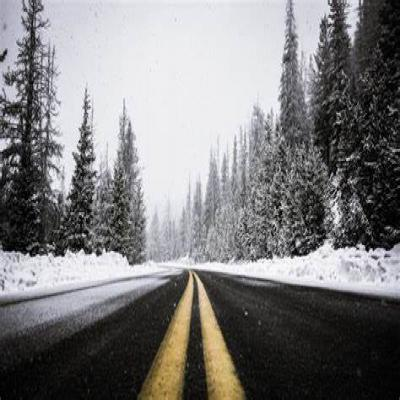iced-road: (198, 273, 400, 400), (0, 274, 186, 400), (183, 283, 207, 399)
